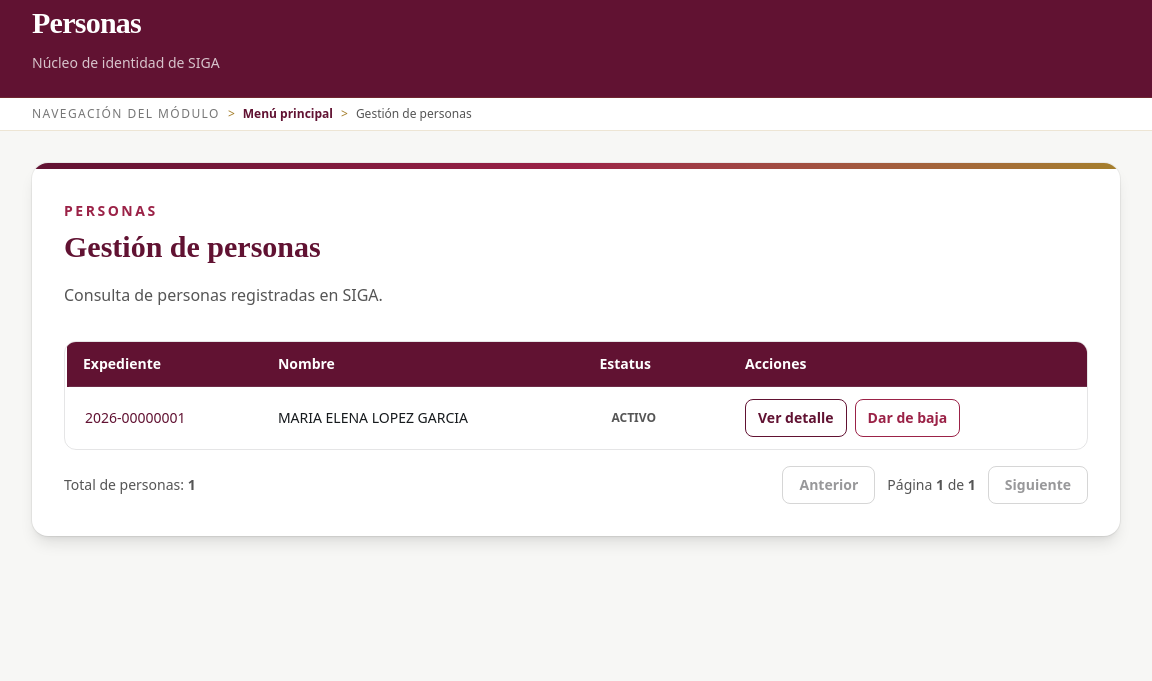
it: PersonasPageComponent › abre la confirmacion de baja para la persona seleccionada
The width and height of the screenshot is (1152, 681).
Click the button with test id "persona-withdraw": (907, 418) x1=855 y1=399 x2=960 y2=437
(page scrolled)
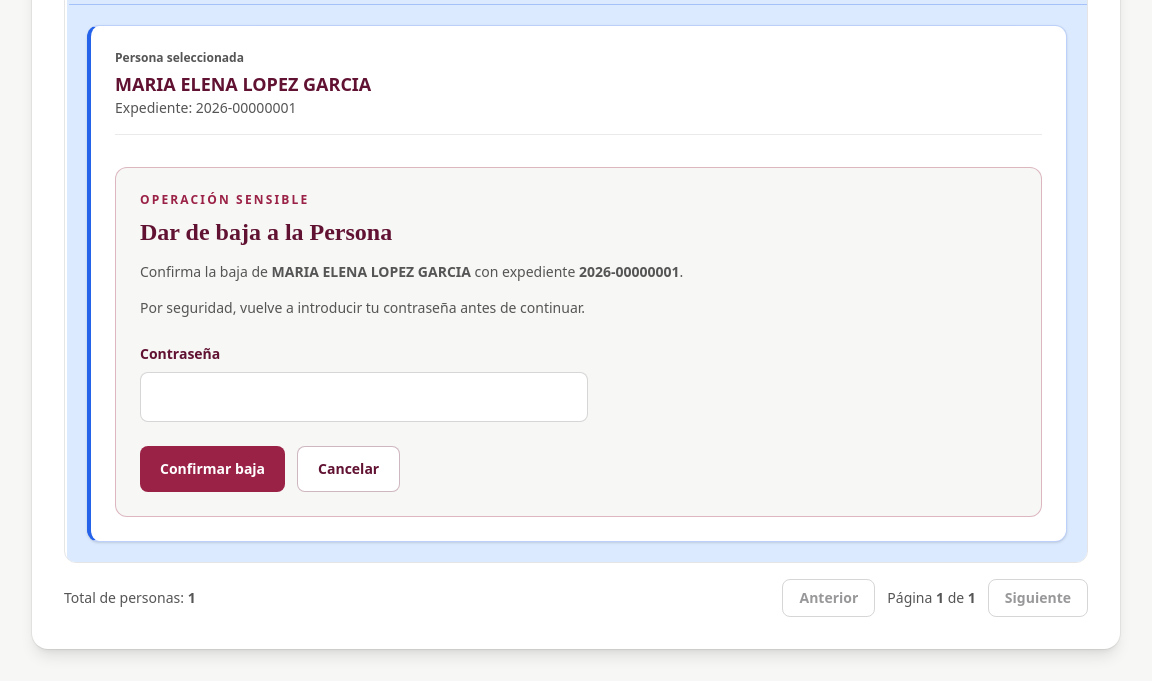
Expected: the form with test id "persona-withdraw-form" is shown, x1=115 y1=167 x2=1042 y2=517
Expected: the form with test id "persona-withdraw-form" shows "MARIA ELENA LOPEZ GARCIA", x1=272 y1=262 x2=471 y2=281
Expected: the form with test id "persona-withdraw-form" shows "2026-00000001", x1=579 y1=262 x2=680 y2=281
